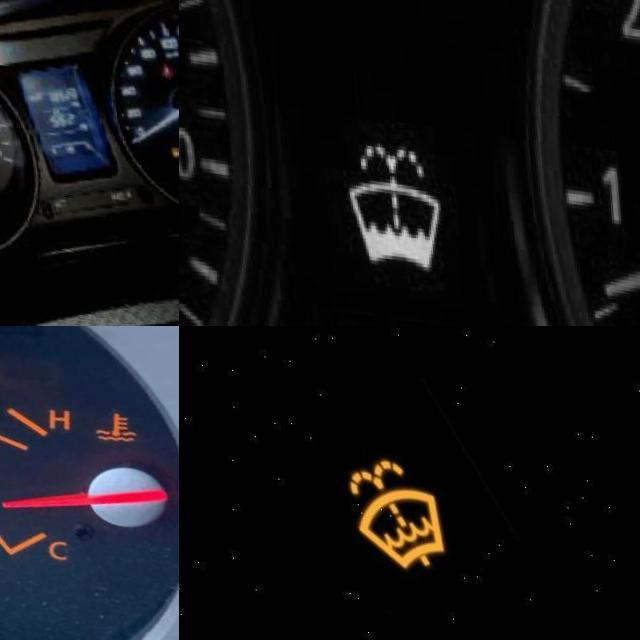High Engine Coolant Temperature: (86, 391, 136, 435)
Seat Belt: (154, 55, 166, 70)
Washer Fluid: (337, 134, 440, 265), (339, 444, 439, 563)
